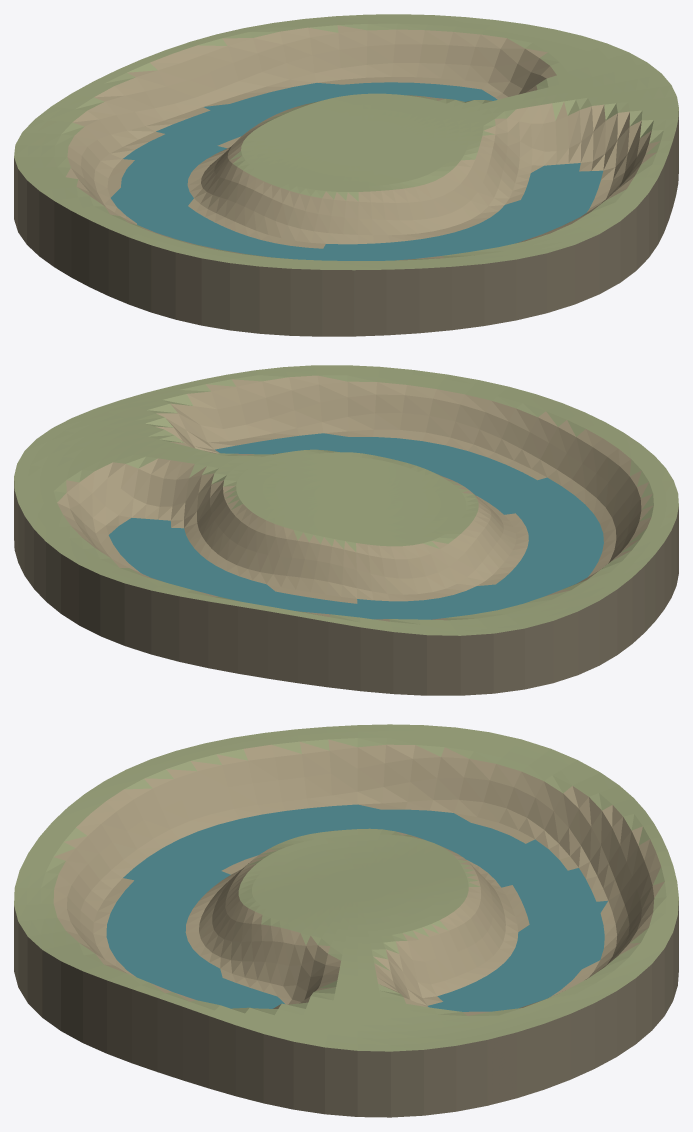
3 renders of one model, top to bottom at view 1: azimuth 30°, elevation 25°; view 2: azimuth 150°, elevation 25°; view 3: azimuth 270°, elevation 25°, orthographic. The views are drawn at different scales.
Visible parts, largest first — view 1: WholeCutoffHorseshoeLakePeninsulaAndDryNeckTerrain; view 2: WholeCutoffHorseshoeLakePeninsulaAndDryNeckTerrain; view 3: WholeCutoffHorseshoeLakePeninsulaAndDryNeckTerrain.
Boxes of the visible parts, <box> form: WholeCutoffHorseshoeLakePeninsulaAndDryNeckTerrain: <box>14,14,678,336</box>; WholeCutoffHorseshoeLakePeninsulaAndDryNeckTerrain: <box>14,365,678,695</box>; WholeCutoffHorseshoeLakePeninsulaAndDryNeckTerrain: <box>14,724,678,1117</box>.
Bounding box in the file's own units: 4.06 × 0.44 × 3.57.
